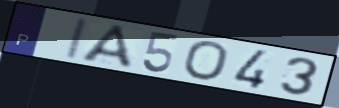3: (277, 56, 320, 98)
4: (230, 49, 273, 91)
5: (140, 30, 181, 74)
A: (78, 22, 136, 71)
I: (61, 16, 92, 63)
O: (180, 40, 231, 82)
